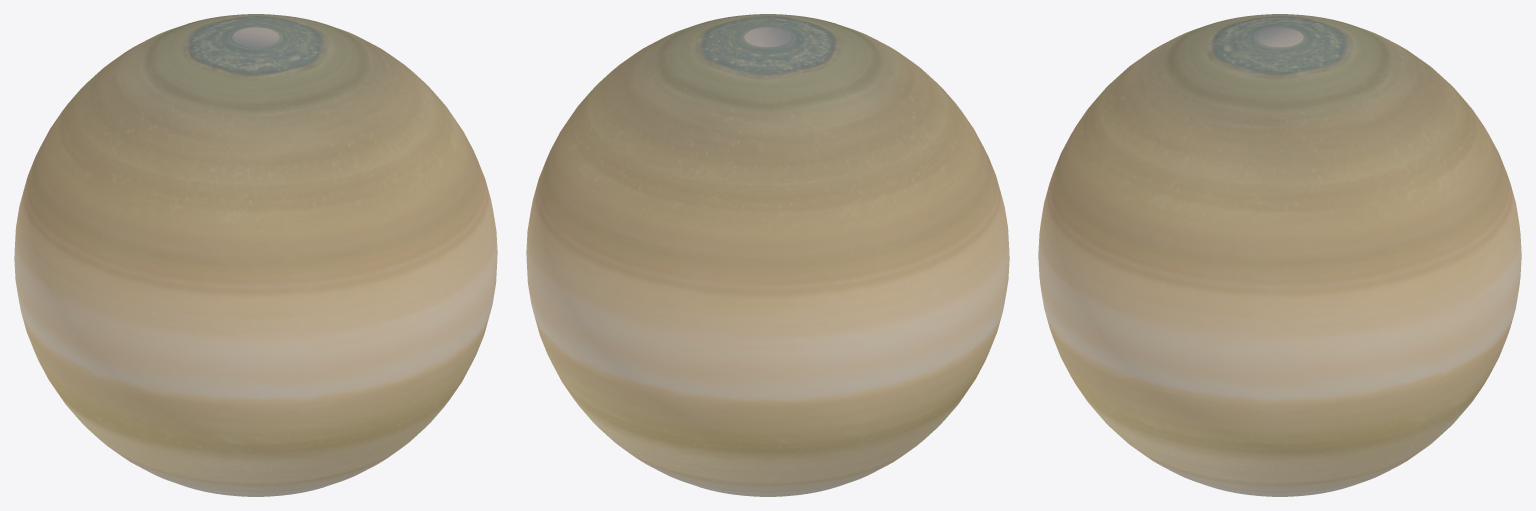
File: SaturnSphere.glb
3 renders of one model, left to right at view 1: azimuth 30°, elevation 25°; view 2: azimuth 150°, elevation 25°; view 3: azimuth 270°, elevation 25°, orthographic.
Parts seen in each view (by area): view 1: Saturn (1); view 2: Saturn (1); view 3: Saturn (1).
Part boxes in pixels (left/top/right/bottom): Saturn (1): left=14, top=14, right=497, bottom=496; Saturn (1): left=526, top=14, right=1009, bottom=496; Saturn (1): left=1038, top=14, right=1521, bottom=496.
Size of the model in its own units: 2 by 1.99 by 2.
Materials: 1 (1 with a texture image).
